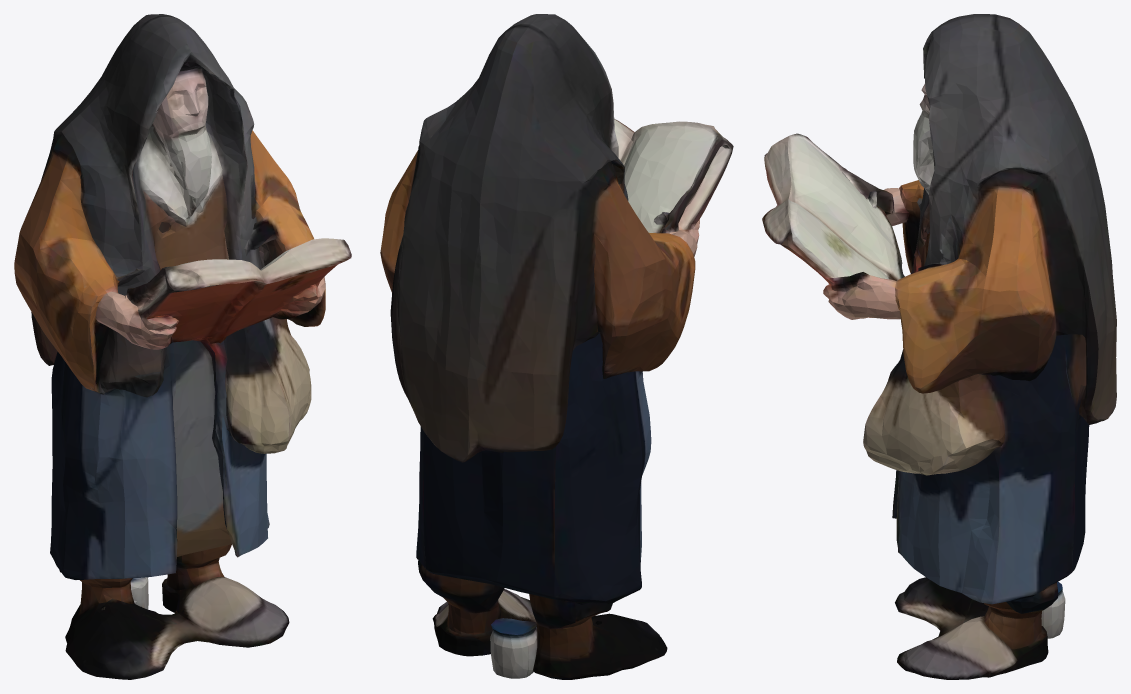
Rendered from anime_prehist_scholar.glb.
3 views of the same model, side by side, from view 1: azimuth 30°, elevation 25°; view 2: azimuth 150°, elevation 25°; view 3: azimuth 270°, elevation 25° (orthographic). The views are drawn at different scales.
Visible parts, largest first — view 1: geometry_0; view 2: geometry_0; view 3: geometry_0.
Boxes of the visible parts, x1=… form: geometry_0: x1=14, y1=14, x2=351, y2=679; geometry_0: x1=380, y1=14, x2=733, y2=679; geometry_0: x1=762, y1=14, x2=1116, y2=679.
Size of the model in its own units: 0.4509 by 1 by 0.5201.
1 material, 1 textured.
